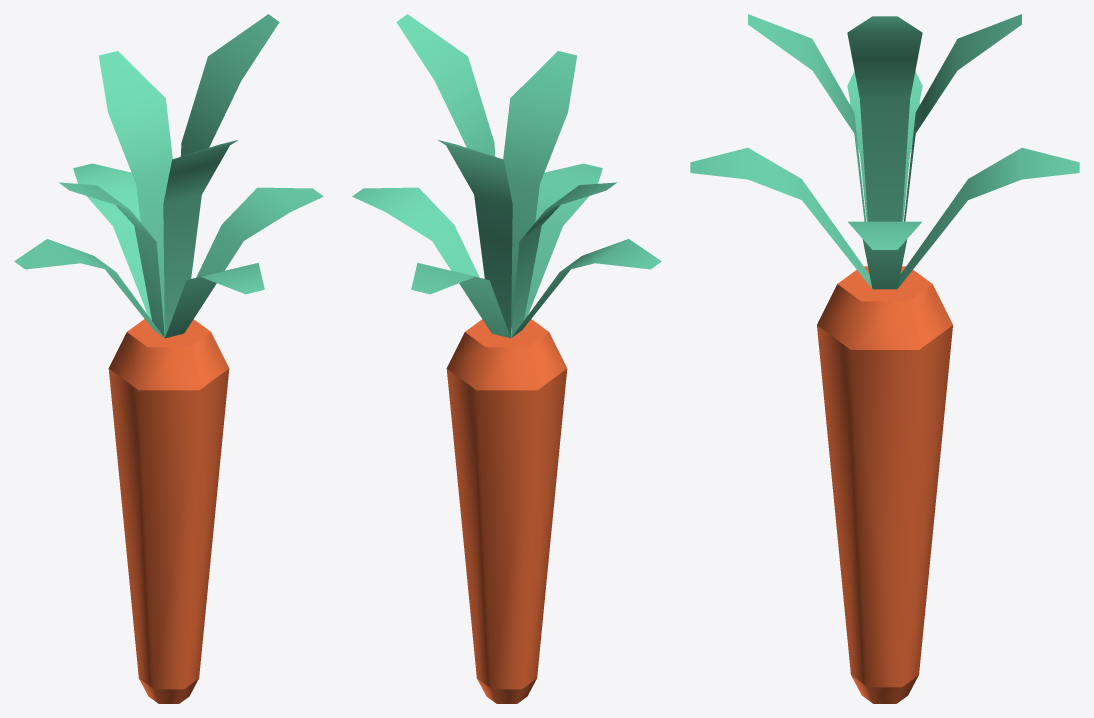
File: carrot.obj
3 views of the same model, side by side, from view 1: azimuth 30°, elevation 25°; view 2: azimuth 150°, elevation 25°; view 3: azimuth 270°, elevation 25° (orthographic). The views are drawn at different scales.
Visible parts, largest first — view 1: carrot; view 2: carrot; view 3: carrot.
Boxes of the visible parts, box(x1,y1,x2,y2) form: carrot: box(14, 14, 323, 703); carrot: box(352, 14, 661, 703); carrot: box(690, 14, 1079, 703).
Size of the model in its own units: 0.3431 by 0.7163 by 0.3431.
